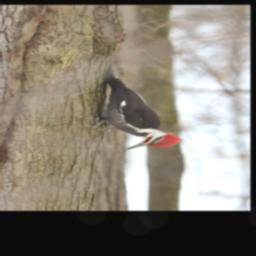Woodpecker: (85, 59, 183, 150)
